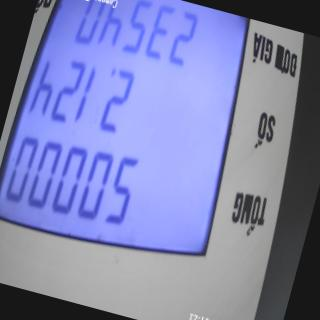screen: (0, 0, 271, 289)
